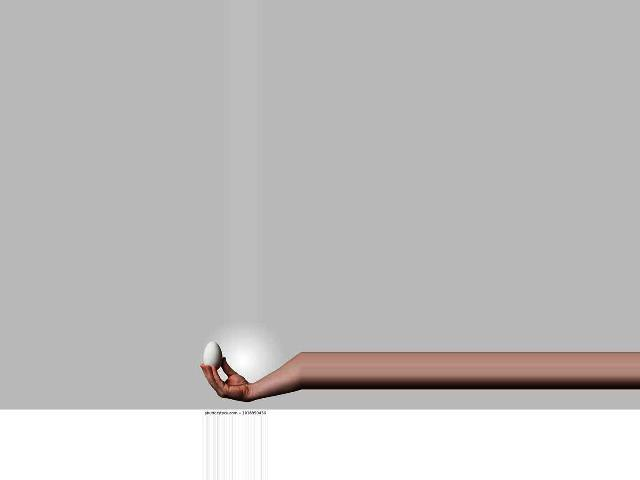egg: (203, 341, 223, 370)
